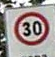limite 30: (13, 10, 50, 44)
